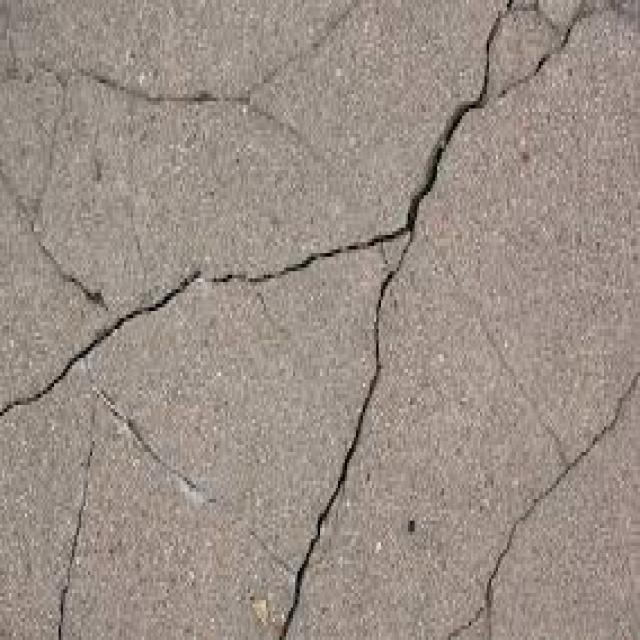crack: (1, 0, 515, 417), (279, 233, 414, 639)
